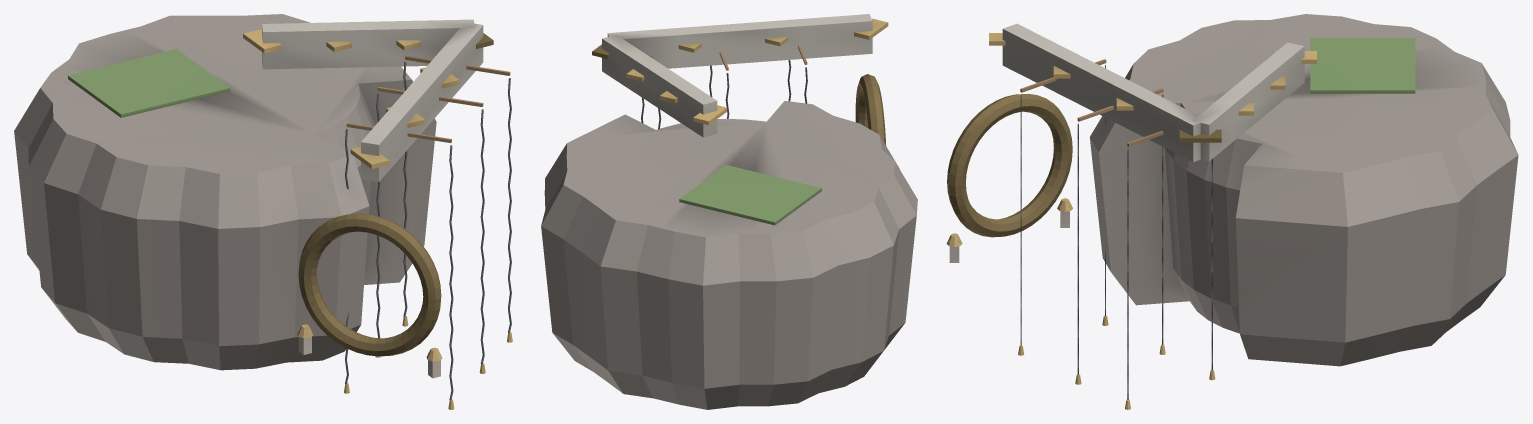
File: 08_harbor_island.glb
3 renders of one model, left to right at view 1: azimuth 30°, elevation 25°; view 2: azimuth 150°, elevation 25°; view 3: azimuth 270°, elevation 25°, orthographic. The views are drawn at different scales.
Visible parts, largest first — view 1: harbor_island_rock, harbor_island_stone, harbor_island_brass, harbor_island_grass, harbor_island_iron, harbor_island_brass_nocol, harbor_island_wood; view 2: harbor_island_rock, harbor_island_stone, harbor_island_grass, harbor_island_brass_nocol, harbor_island_brass, harbor_island_iron; view 3: harbor_island_rock, harbor_island_stone, harbor_island_brass, harbor_island_grass, harbor_island_iron, harbor_island_brass_nocol, harbor_island_wood.
Part boxes in pixels (left/top/right/bottom): harbor_island_rock: left=14, top=14, right=436, bottom=370; harbor_island_stone: left=262, top=19, right=483, bottom=378; harbor_island_brass: left=298, top=213, right=441, bottom=356; harbor_island_grass: left=68, top=49, right=229, bottom=117; harbor_island_iron: left=345, top=61, right=511, bottom=400; harbor_island_brass_nocol: left=243, top=29, right=512, bottom=409; harbor_island_wood: left=346, top=55, right=510, bottom=142; harbor_island_rock: left=541, top=101, right=917, bottom=409; harbor_island_stone: left=602, top=14, right=872, bottom=137; harbor_island_grass: left=679, top=165, right=821, bottom=225; harbor_island_brass_nocol: left=592, top=18, right=888, bottom=125; harbor_island_brass: left=855, top=74, right=886, bottom=145; harbor_island_iron: left=641, top=60, right=807, bottom=128; harbor_island_rock: left=1089, top=14, right=1518, bottom=366; harbor_island_stone: left=949, top=23, right=1304, bottom=262; harbor_island_brass: left=947, top=93, right=1072, bottom=237; harbor_island_grass: left=1310, top=38, right=1415, bottom=93; harbor_island_iron: left=1020, top=65, right=1212, bottom=399; harbor_island_brass_nocol: left=946, top=33, right=1316, bottom=409; harbor_island_wood: left=1020, top=59, right=1163, bottom=146.
Bounding box in the file's own units: 92.09 × 66.25 × 120.
